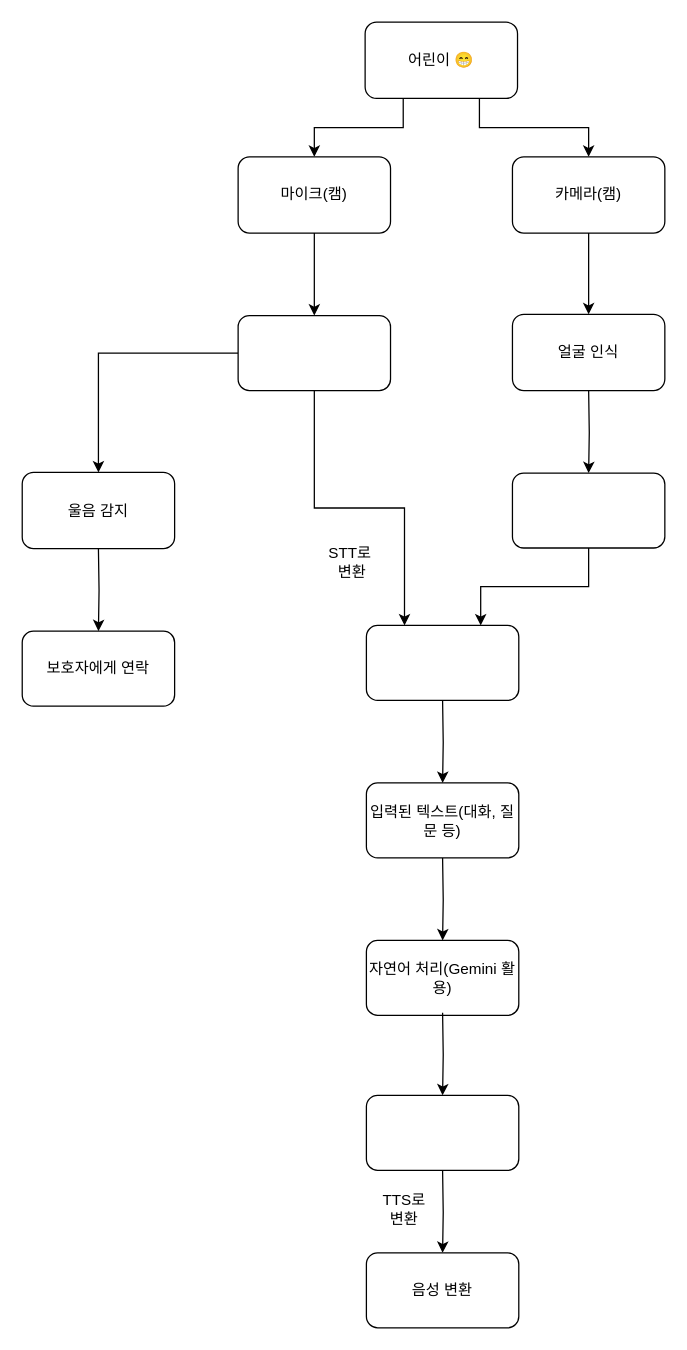
The diagram is 687 pixels wide and 1350 high, and some of its shapes have lost their labels. Each missing label, with the box of its shape:
답변 생성: (365, 624, 519, 700)
음성인식: (237, 314, 391, 391)
적절한 답변 생성: (365, 1094, 519, 1170)
표정 분석 및 성별 분석: (511, 472, 665, 548)
